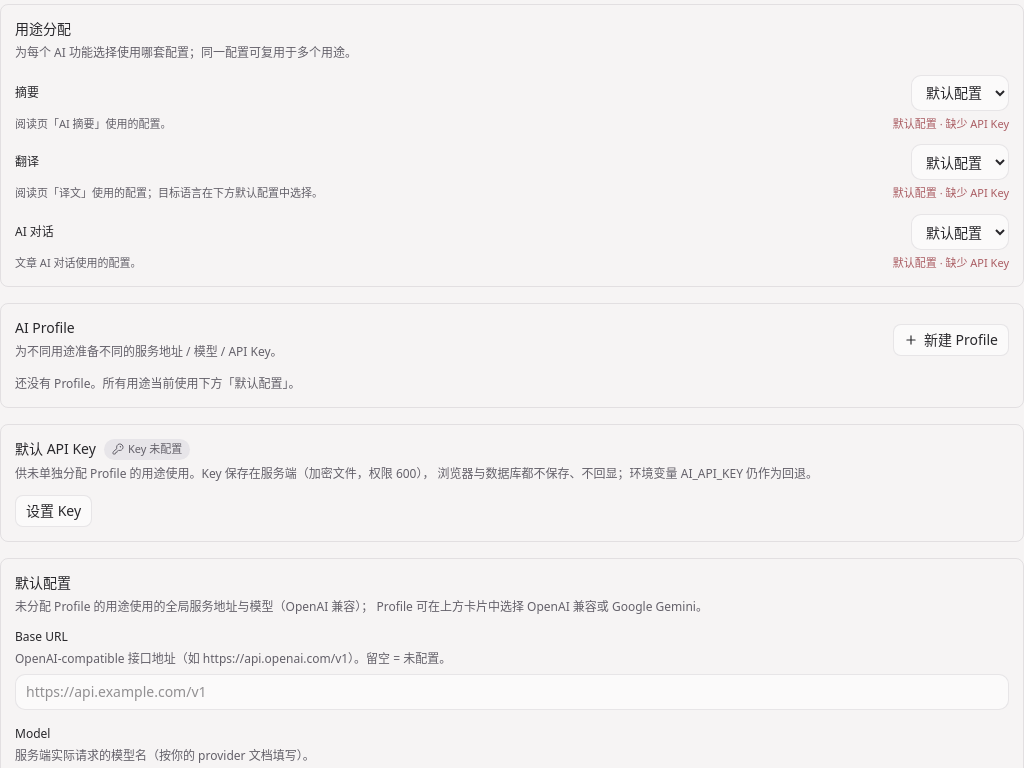
AiSettingsSection — Profile Provider 切换（P17 Gemini） › 默认（openai_compatible）保持原样：Base URL 输入框存在
Click the button "新建 Profile" at coordinates (951, 340), box 893,324 -> 1009,356
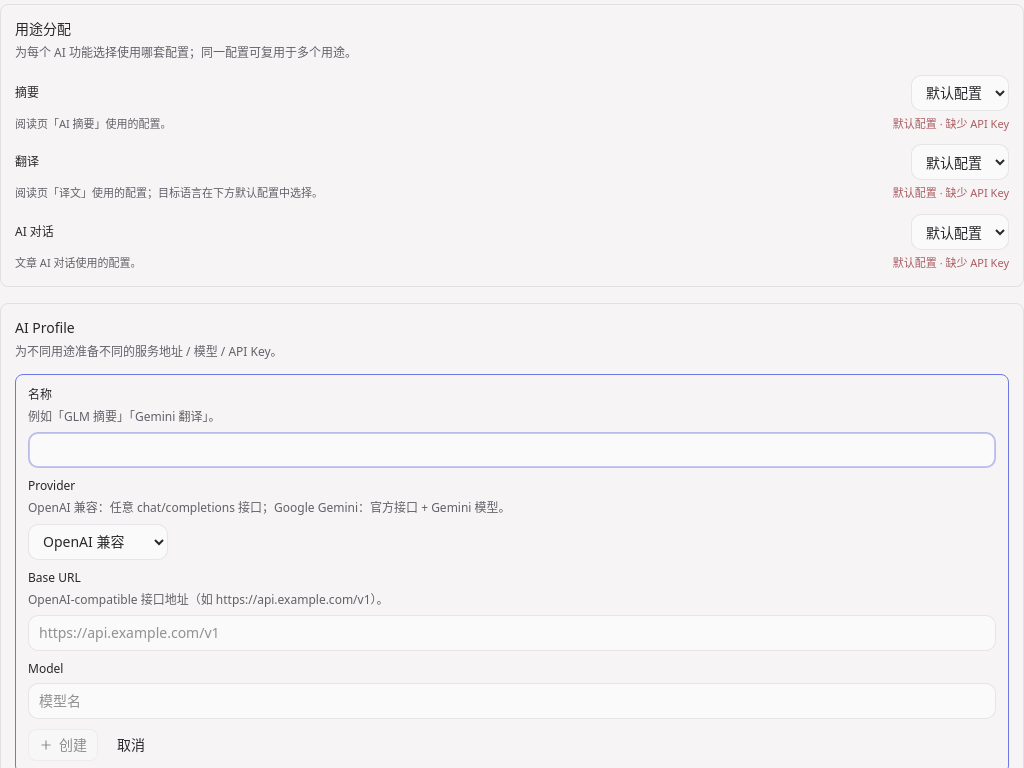
Now the dropdown named "新 Profile Provider" shows "OpenAI 兼容", box 28,524 -> 168,560
Now the field named "新 Profile Base URL" is shown, box 28,615 -> 996,651
